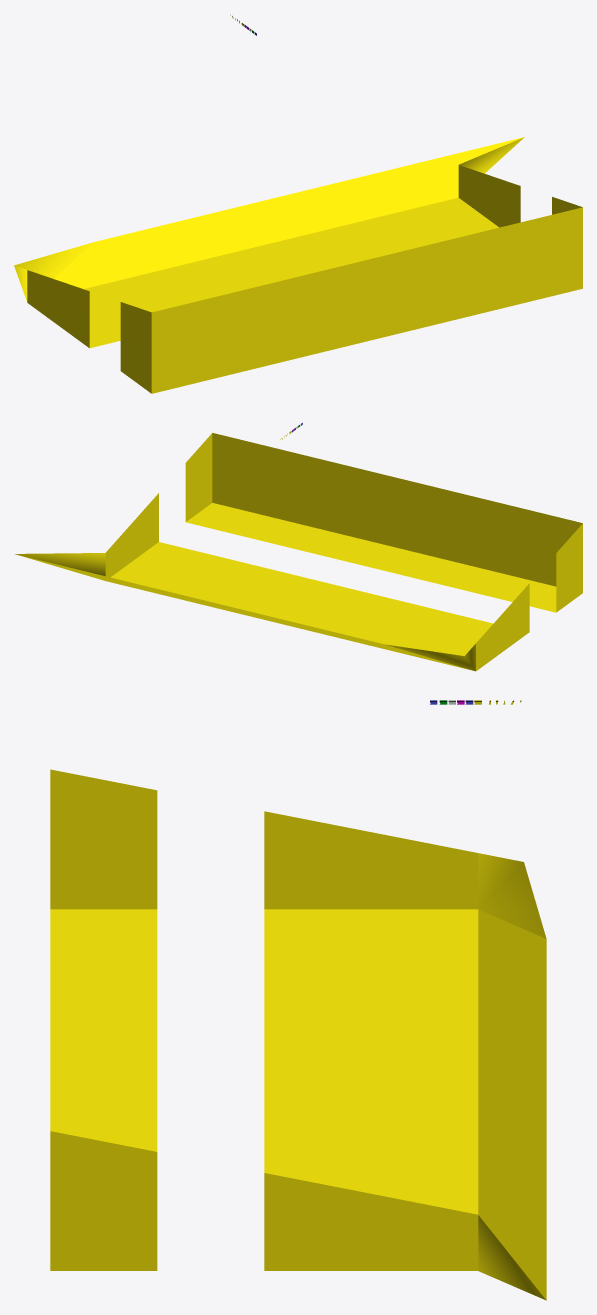
File: ключ карты .fbx
3 renders of one model, top to bottom at view 1: azimuth 30°, elevation 25°; view 2: azimuth 150°, elevation 25°; view 3: azimuth 270°, elevation 25°, orthographic. The views are drawn at different scales.
Parts seen in each view (by area): view 1: Pass_PassBase_Mat_0.018; view 2: Pass_PassBase_Mat_0.018; view 3: Pass_PassBase_Mat_0.018.
Boxes of the visible parts, x1=… form: Pass_PassBase_Mat_0.018: x1=14, y1=137, x2=582, y2=393; Pass_PassBase_Mat_0.018: x1=15, y1=433, x2=582, y2=671; Pass_PassBase_Mat_0.018: x1=50, y1=769, x2=546, y2=1300.
Bounding box in the file's own units: 240 × 101 × 116.
